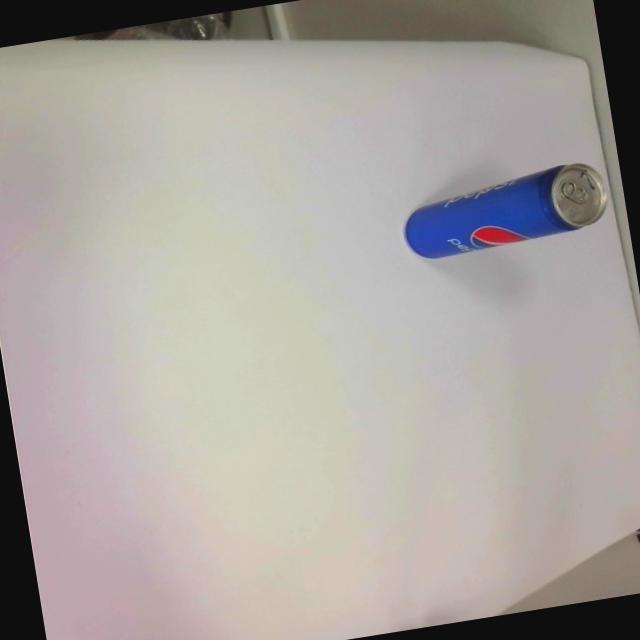debris: (396, 156, 616, 264)
